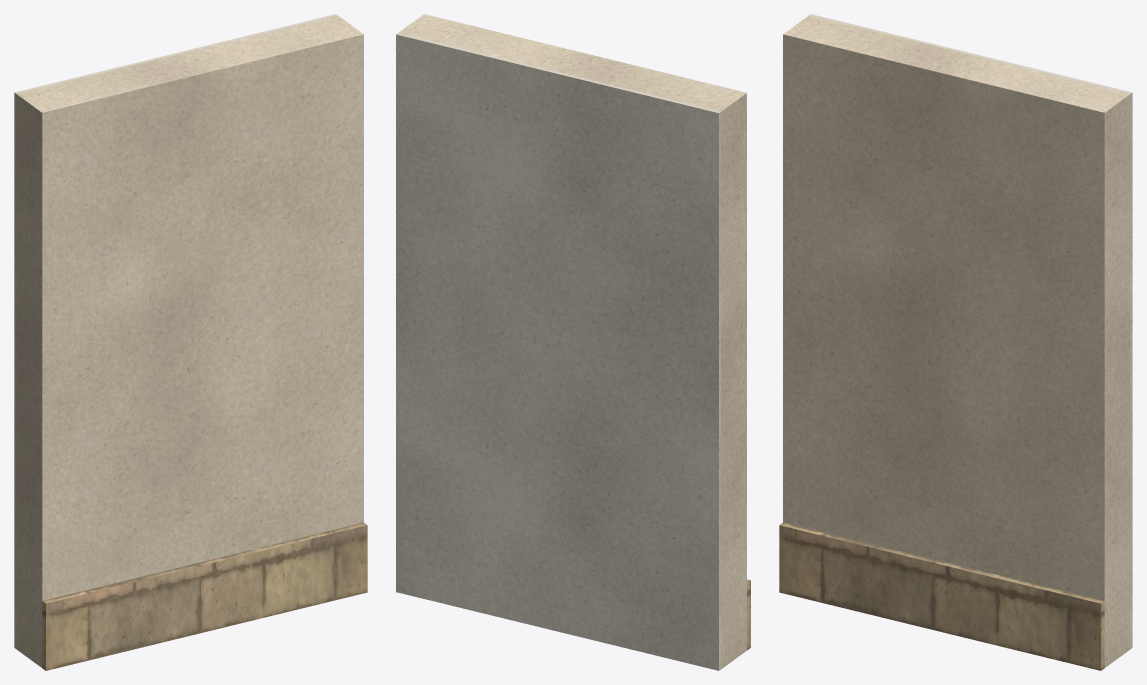
The model's file is wall_garage_plain.glb.
3 renders of one model, left to right at view 1: azimuth 30°, elevation 25°; view 2: azimuth 150°, elevation 25°; view 3: azimuth 330°, elevation 25°, orthographic.
Parts seen in each view (by area): view 1: wall_garage_plain_render, wall_garage_plain_stone2, wall_garage_plain_plaster; view 2: wall_garage_plain_plaster, wall_garage_plain_render; view 3: wall_garage_plain_render, wall_garage_plain_stone2, wall_garage_plain_plaster.
Boxes of the visible parts, bbox=[...] form: wall_garage_plain_render: bbox=[16, 15, 363, 667]; wall_garage_plain_stone2: bbox=[42, 522, 367, 670]; wall_garage_plain_plaster: bbox=[14, 14, 337, 648]; wall_garage_plain_plaster: bbox=[396, 33, 720, 670]; wall_garage_plain_render: bbox=[398, 14, 746, 669]; wall_garage_plain_render: bbox=[783, 15, 1130, 667]; wall_garage_plain_stone2: bbox=[779, 522, 1104, 670]; wall_garage_plain_plaster: bbox=[809, 14, 1132, 648].
Bounding box in the file's own units: 2 × 3.3 × 0.34.
Materials: 3 (3 with a texture image).
